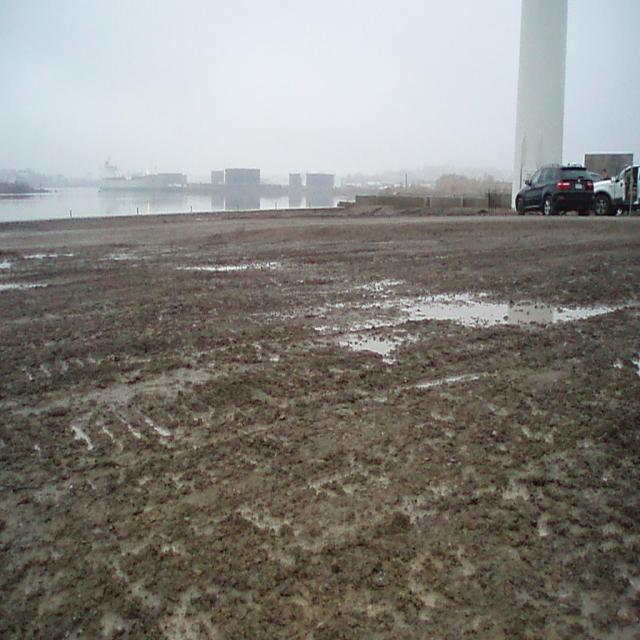car: (515, 164, 596, 218)
